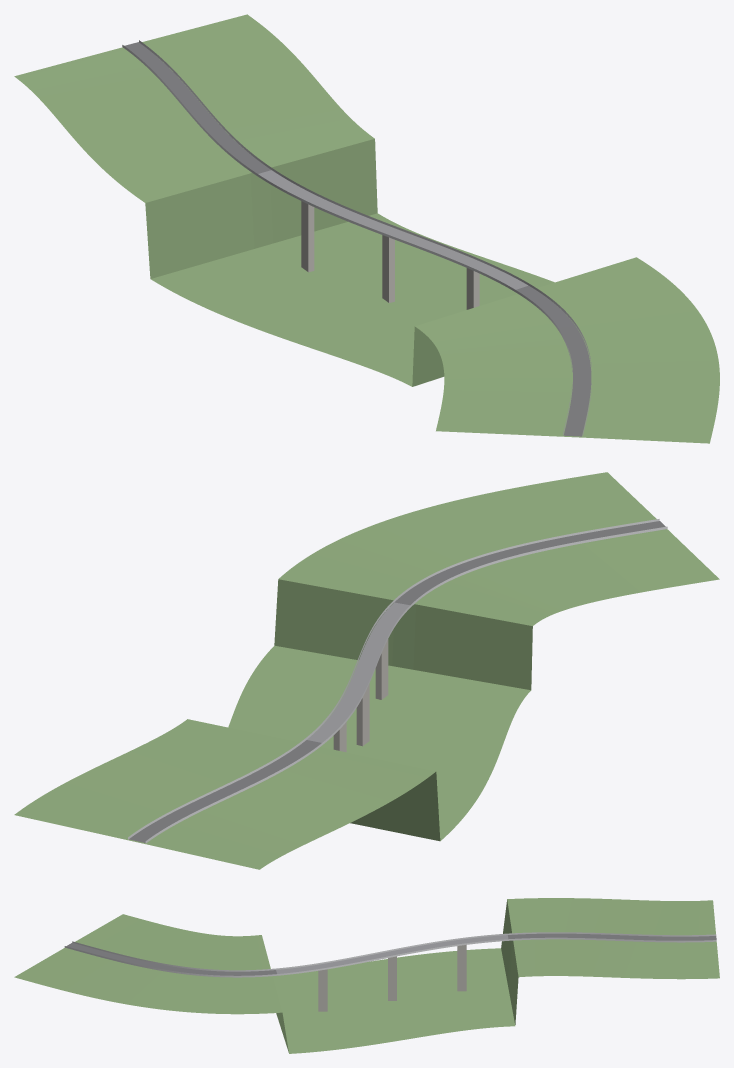
The model's file is bim-bridge-course.glb.
3 views of the same model, one above another, from view 1: azimuth 30°, elevation 25°; view 2: azimuth 150°, elevation 25°; view 3: azimuth 270°, elevation 25° (orthographic). The views are drawn at different scales.
Parts seen in each view (by area): view 1: Ground_Embankment, Road_Approach_South, Deck_Bridge, Road_Approach_North, Railing_L, Railing_R, Pier_2, Pier_1; view 2: Ground_Embankment, Deck_Bridge, Road_Approach_South, Road_Approach_North, Railing_L, Railing_R, Pier_1, Pier_0; view 3: Ground_Embankment, Railing_R, Railing_L, Deck_Bridge, Road_Approach_South, Road_Approach_North, Pier_2, Pier_0, Pier_1.
Part boxes in pixels (x1,y1,x2,y2): Ground_Embankment: [14, 14, 719, 443]; Road_Approach_South: [516, 285, 591, 436]; Deck_Bridge: [258, 170, 527, 289]; Road_Approach_North: [124, 42, 270, 173]; Railing_L: [122, 45, 572, 435]; Railing_R: [139, 40, 591, 435]; Pier_2: [301, 201, 314, 272]; Pier_1: [382, 235, 394, 302]; Ground_Embankment: [14, 472, 719, 869]; Deck_Bridge: [307, 602, 409, 742]; Road_Approach_South: [394, 521, 665, 605]; Road_Approach_North: [129, 740, 321, 842]; Railing_L: [145, 526, 667, 843]; Railing_R: [128, 519, 659, 839]; Pier_1: [356, 683, 369, 746]; Pier_0: [375, 639, 388, 699]; Ground_Embankment: [14, 898, 719, 1053]; Railing_R: [64, 937, 716, 977]; Railing_L: [72, 932, 716, 971]; Deck_Bridge: [276, 935, 508, 973]; Road_Approach_South: [66, 943, 276, 975]; Road_Approach_North: [508, 933, 716, 940]; Pier_2: [457, 945, 466, 991]; Pier_0: [318, 969, 327, 1011]; Pier_1: [388, 956, 396, 1000].
Bounding box in the file's own units: 165 × 51.4 × 458.
